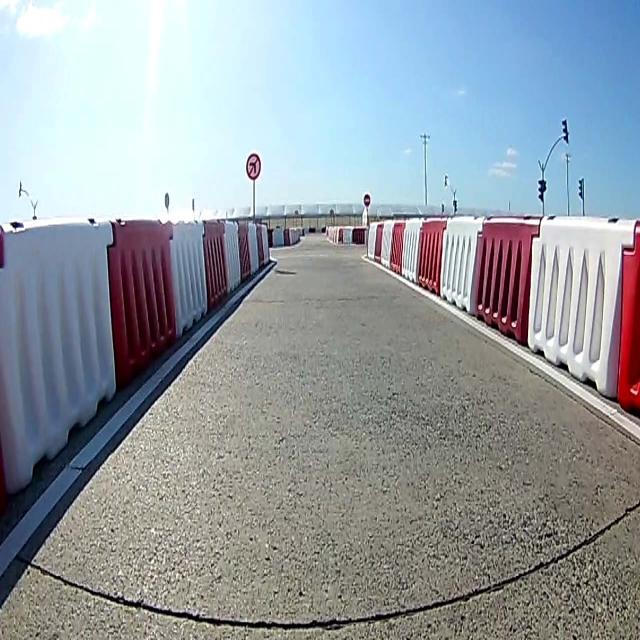girisyok: (363, 192, 371, 206)
soladonulmez: (246, 152, 262, 180)
